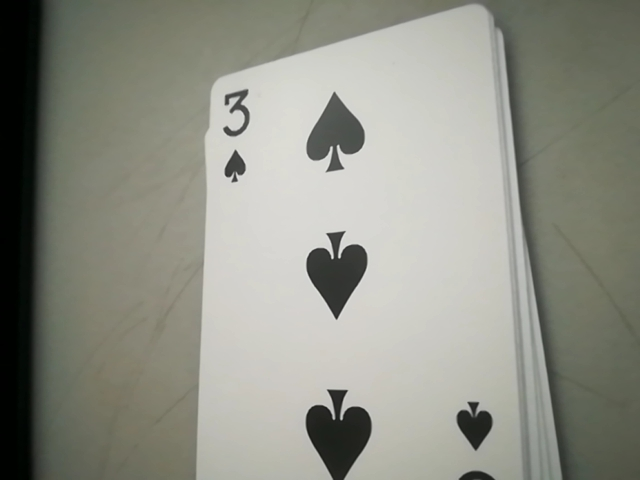ht 3: (204, 86, 271, 192)
